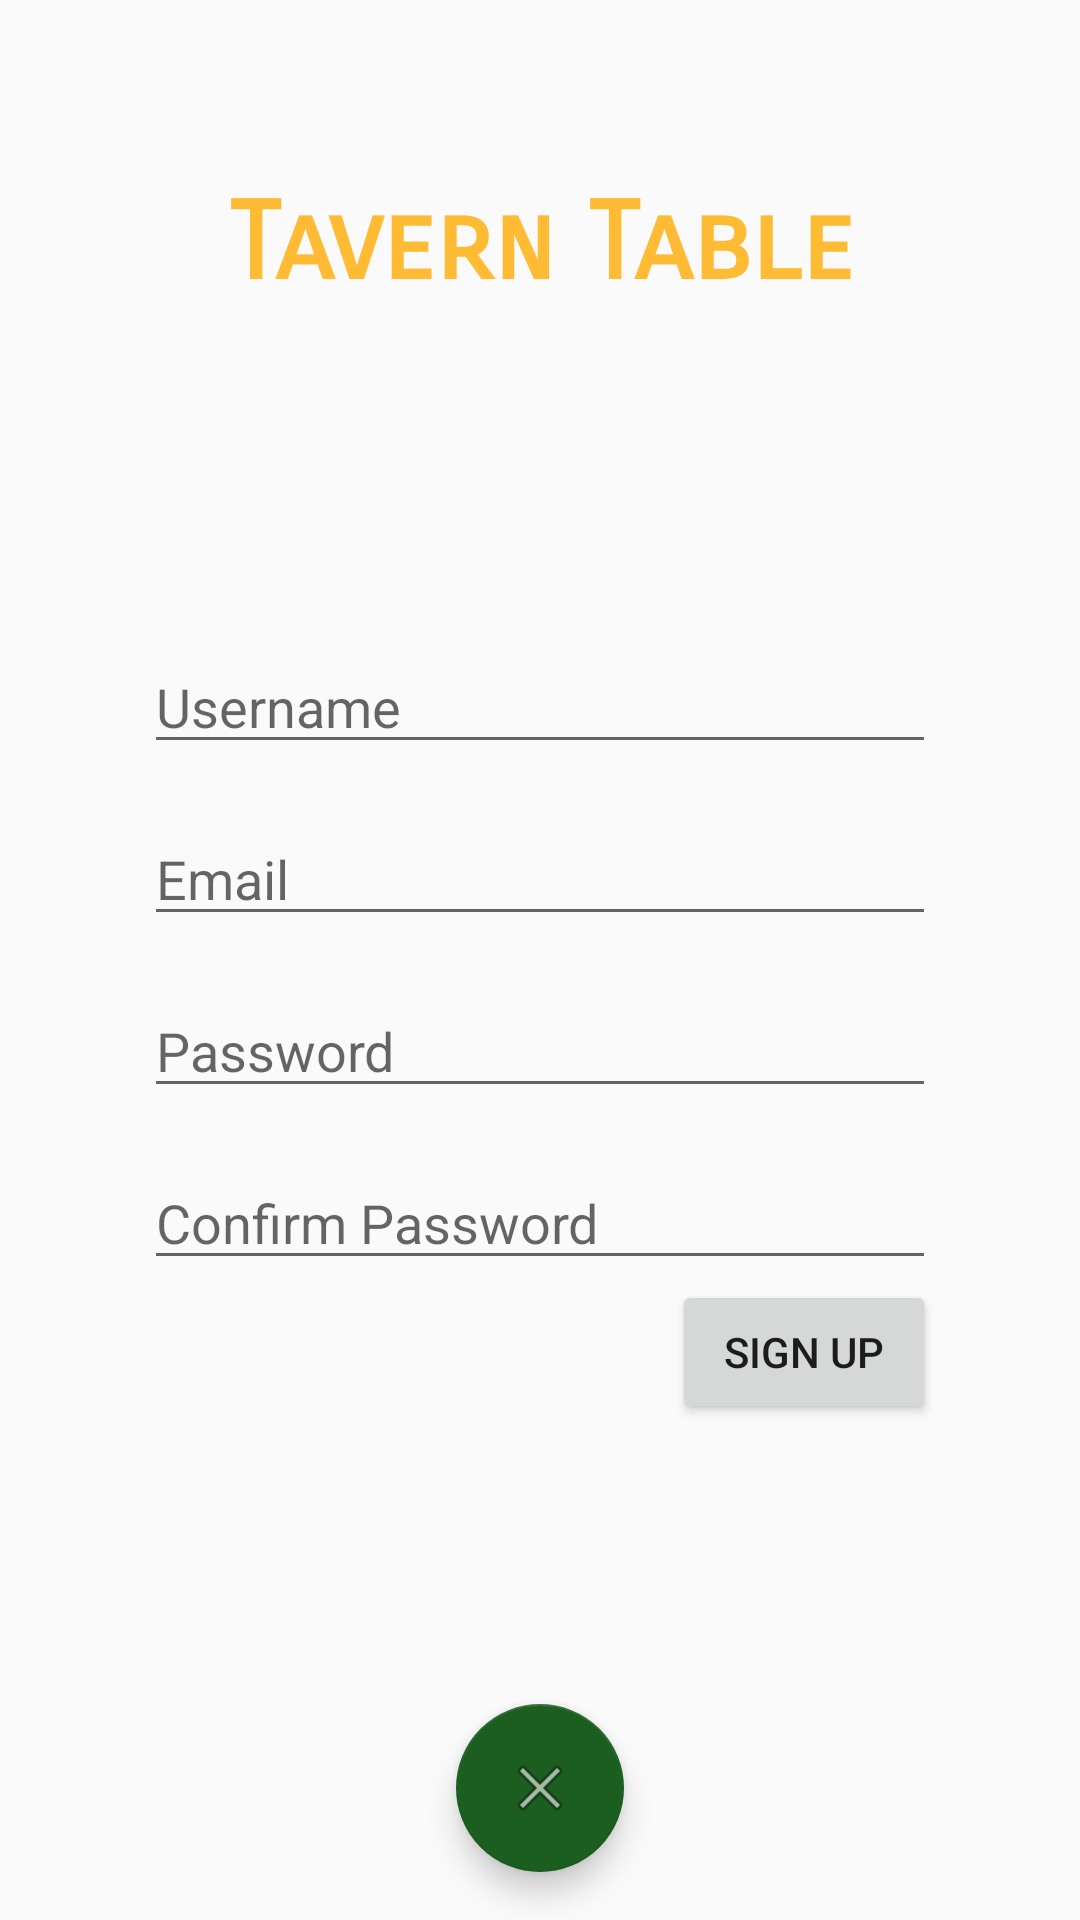

Icon bounding boxes for this 1080px×1920px phone screenshot, format (x1, y1, x2, y2):
close clear cancel: (456, 1704, 624, 1872)
